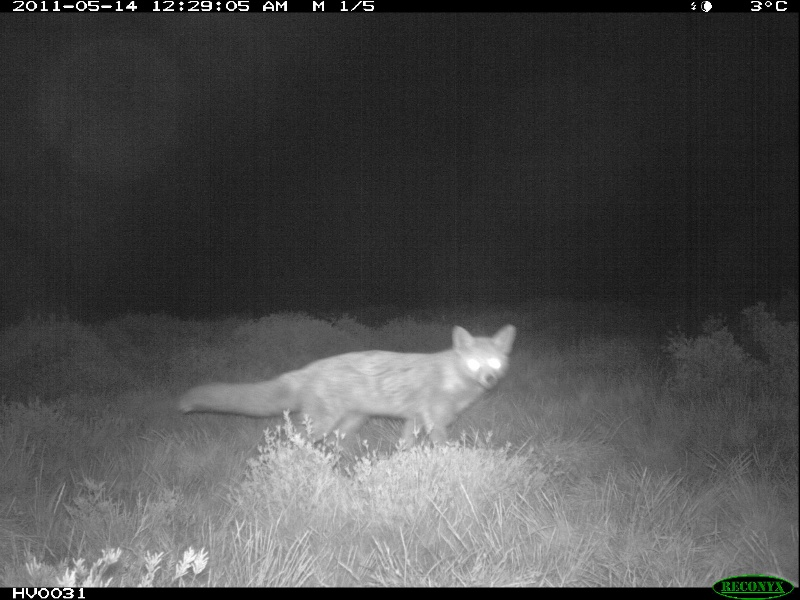fox: (173, 318, 522, 481)
